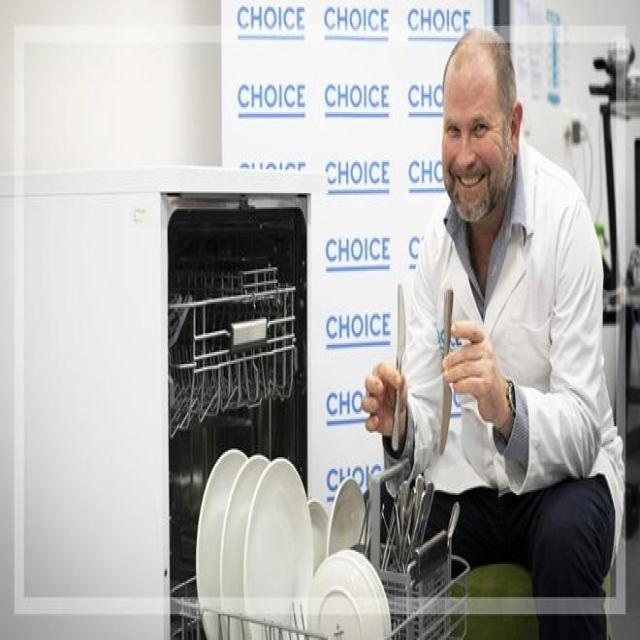dishwasher: (112, 160, 434, 640)
